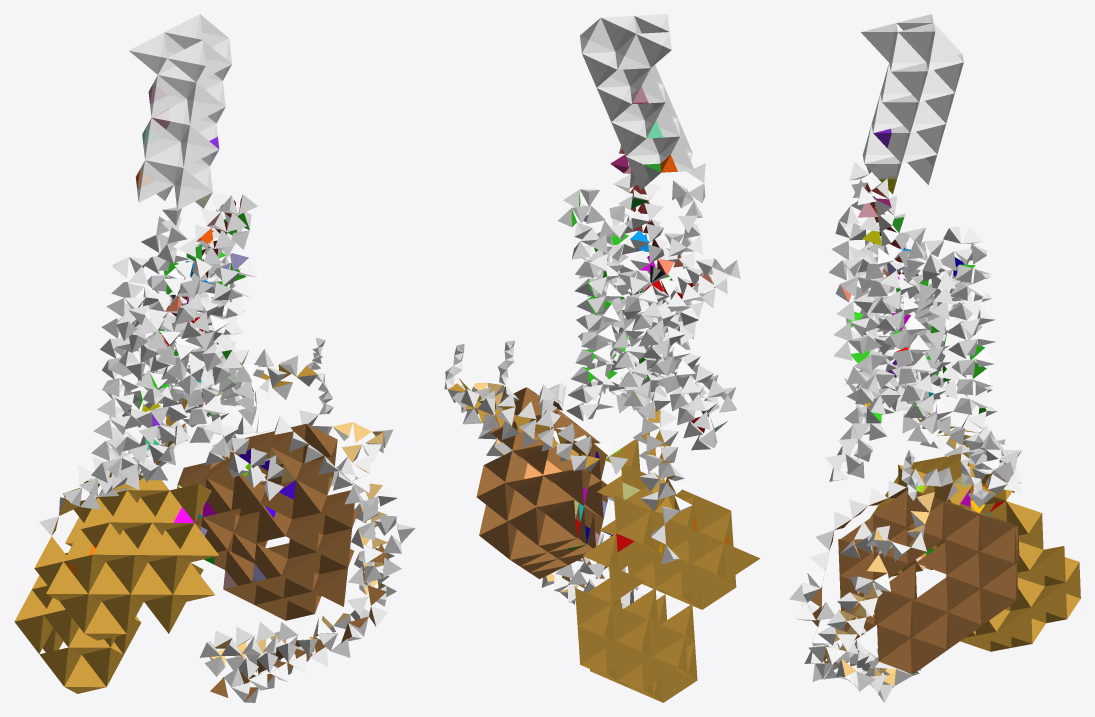
File: CON_5VAI complex_exportsel_ Exploded Axon_10202021_v3_Export for Unity COMBINED CON_corrected.fbx
3 views of the same model, side by side, from view 1: azimuth 30°, elevation 25°; view 2: azimuth 150°, elevation 25°; view 3: azimuth 270°, elevation 25° (orthographic). The views are drawn at different scales.
Parts seen in each view (by area): view 1: Tetrahedron_6, Tetrahedron_5, Tetrahedron_29, Tetrahedron_9, Tetrahedron_15, Tetrahedron_7, Tetrahedron_19, Tetrahedron_27, Tetrahedron, Tetrahedron_17, Tetrahedron_25, Tetrahedron_3 (+9 smaller); view 2: Tetrahedron_6, Tetrahedron_5, Tetrahedron_29, Tetrahedron_19, Tetrahedron_21, Tetrahedron_23, Tetrahedron_11, Tetrahedron_3, Tetrahedron_15, Tetrahedron, Tetrahedron_7, Tetrahedron_25 (+11 smaller); view 3: Tetrahedron_5, Tetrahedron_29, Tetrahedron_6, Tetrahedron_7, Tetrahedron_25, Tetrahedron_21, Tetrahedron_27, Tetrahedron_9, Tetrahedron_23, Tetrahedron_15, Tetrahedron_11, Tetrahedron (+13 smaller).
Boxes of the visible parts, left/top/right/bottom form: Tetrahedron_6: left=14, top=476, right=218, bottom=693; Tetrahedron_5: left=177, top=423, right=358, bottom=620; Tetrahedron_29: left=129, top=14, right=231, bottom=210; Tetrahedron_9: left=224, top=414, right=415, bottom=702; Tetrahedron_15: left=116, top=305, right=283, bottom=500; Tetrahedron_7: left=200, top=410, right=397, bottom=676; Tetrahedron_19: left=91, top=257, right=158, bottom=488; Tetrahedron_27: left=174, top=292, right=272, bottom=425; Tetrahedron: left=148, top=193, right=257, bottom=331; Tetrahedron_17: left=116, top=337, right=187, bottom=483; Tetrahedron_25: left=184, top=253, right=256, bottom=412; Tetrahedron_3: left=39, top=424, right=190, bottom=535; Tetrahedron_6: left=575, top=439, right=760, bottom=702; Tetrahedron_5: left=476, top=387, right=607, bottom=578; Tetrahedron_29: left=580, top=14, right=694, bottom=190; Tetrahedron_19: left=618, top=270, right=728, bottom=450; Tetrahedron_21: left=566, top=220, right=622, bottom=420; Tetrahedron_23: left=558, top=189, right=670, bottom=418; Tetrahedron_11: left=448, top=377, right=627, bottom=474; Tetrahedron_3: left=633, top=385, right=692, bottom=564; Tetrahedron_15: left=607, top=258, right=740, bottom=413; Tetrahedron: left=613, top=145, right=679, bottom=300; Tetrahedron_7: left=460, top=385, right=630, bottom=608; Tetrahedron_25: left=587, top=205, right=639, bottom=399; Tetrahedron_5: left=838, top=490, right=1019, bottom=673; Tetrahedron_29: left=861, top=14, right=963, bottom=191; Tetrahedron_6: left=870, top=452, right=1080, bottom=651; Tetrahedron_7: left=808, top=498, right=927, bottom=702; Tetrahedron_25: left=865, top=248, right=953, bottom=433; Tetrahedron_21: left=943, top=226, right=996, bottom=428; Tetrahedron_27: left=829, top=240, right=900, bottom=423; Tetrahedron_9: left=789, top=467, right=957, bottom=691; Tetrahedron_23: left=906, top=227, right=960, bottom=400; Tetrahedron_15: left=825, top=234, right=900, bottom=481; Tetrahedron_11: left=965, top=431, right=1022, bottom=508; Tetrahedron: left=851, top=178, right=920, bottom=299.
Size of the model in its own units: 101 by 76.91 by 193.
